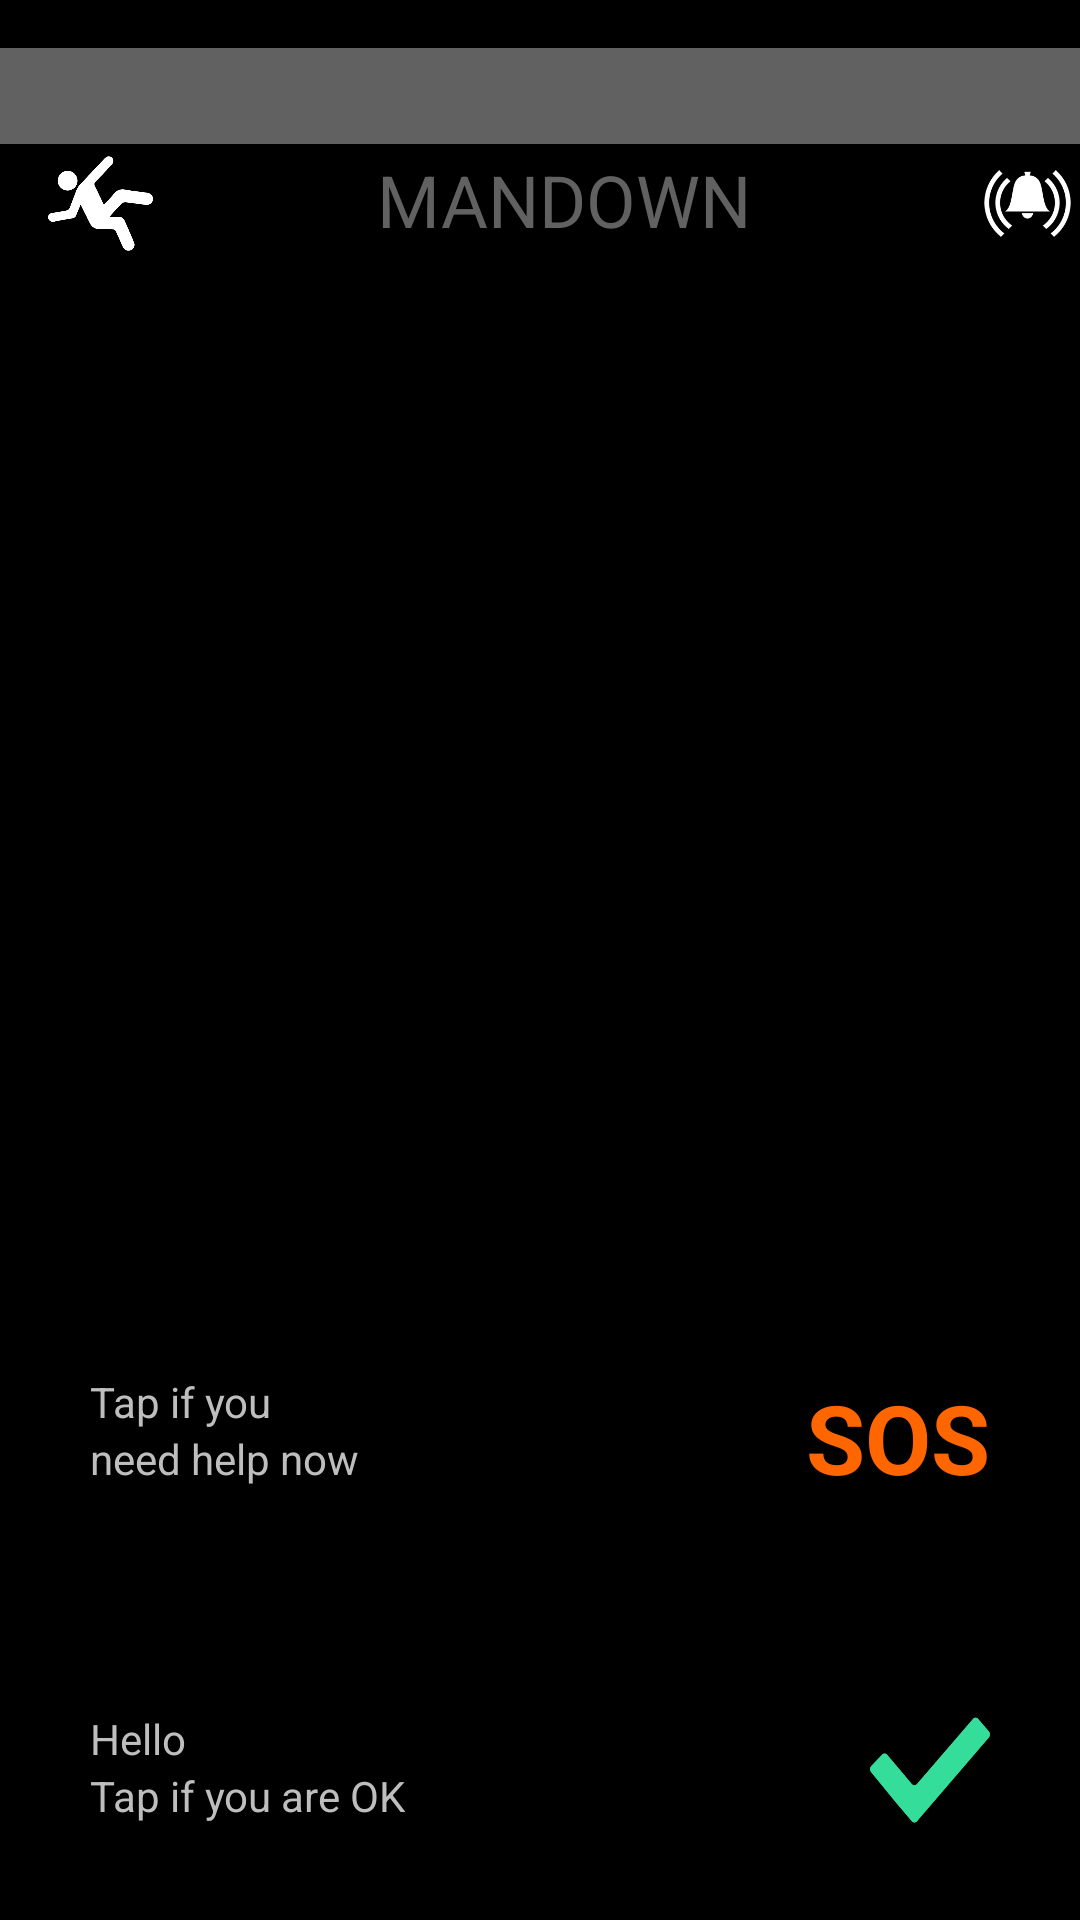

Icon click points for this 1080w x 1920h phone screenshot, format (x,y):
bell: (1027,203)
man down: (100,203)
